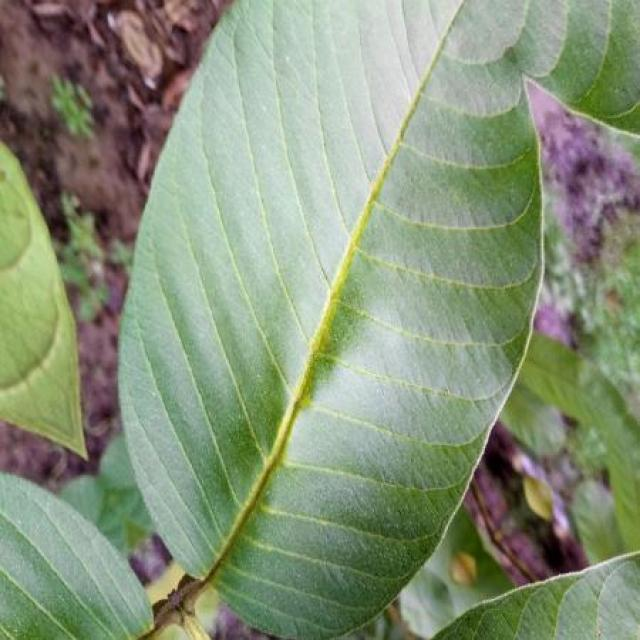Disease Free: (0, 0, 640, 640), (434, 552, 640, 639)
